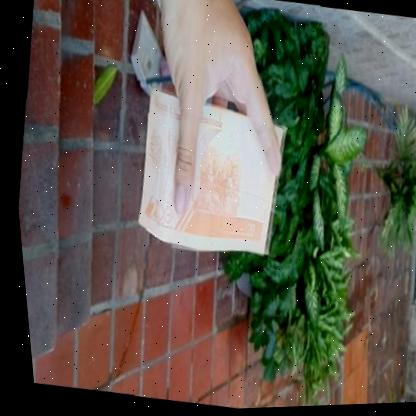twenty-back-vef: (119, 83, 295, 266)
